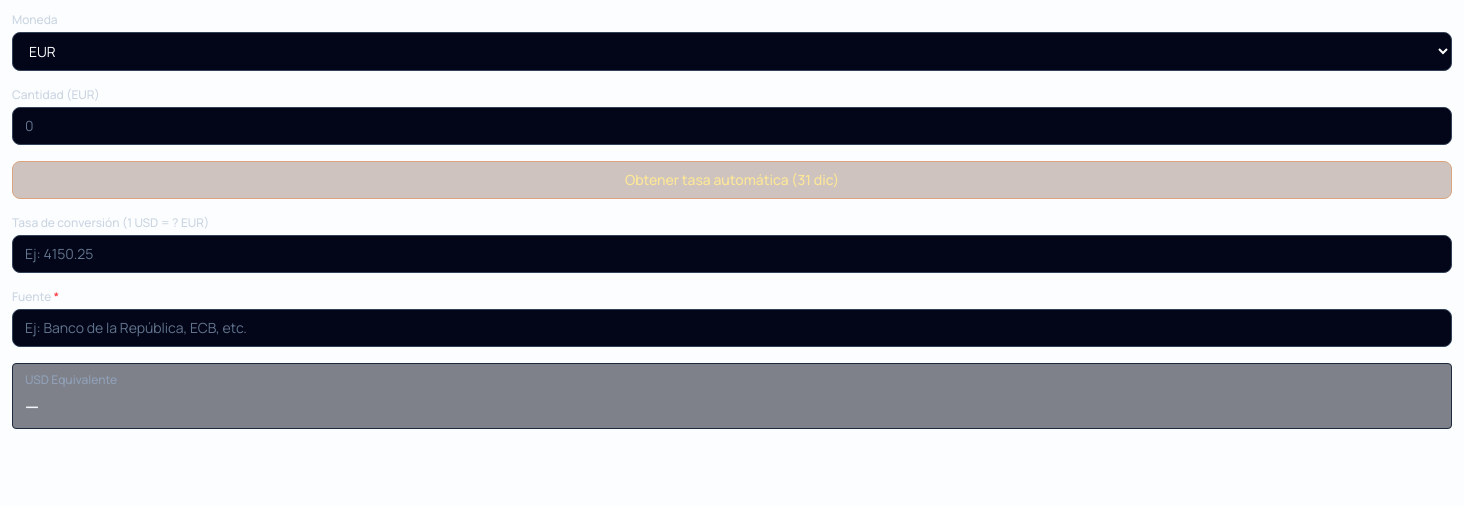
Test: FxSubForm Component › Manual rate entry › shows valid state when rate valid
Type "1.09" into the number field labelled "Tasa de conversión (1 USD = ? EUR)".
click(732, 254); type("1.09")  # box [12,235,1452,273]
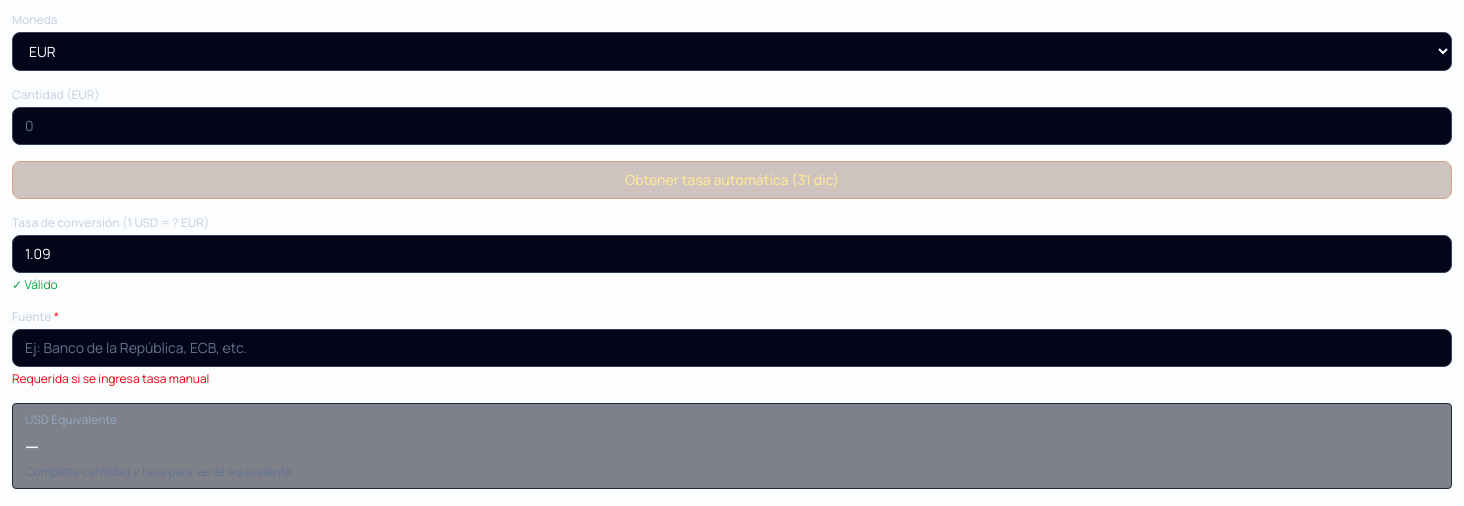
Expected: the text "✓ Válido" is shown, [12,276,58,293]
